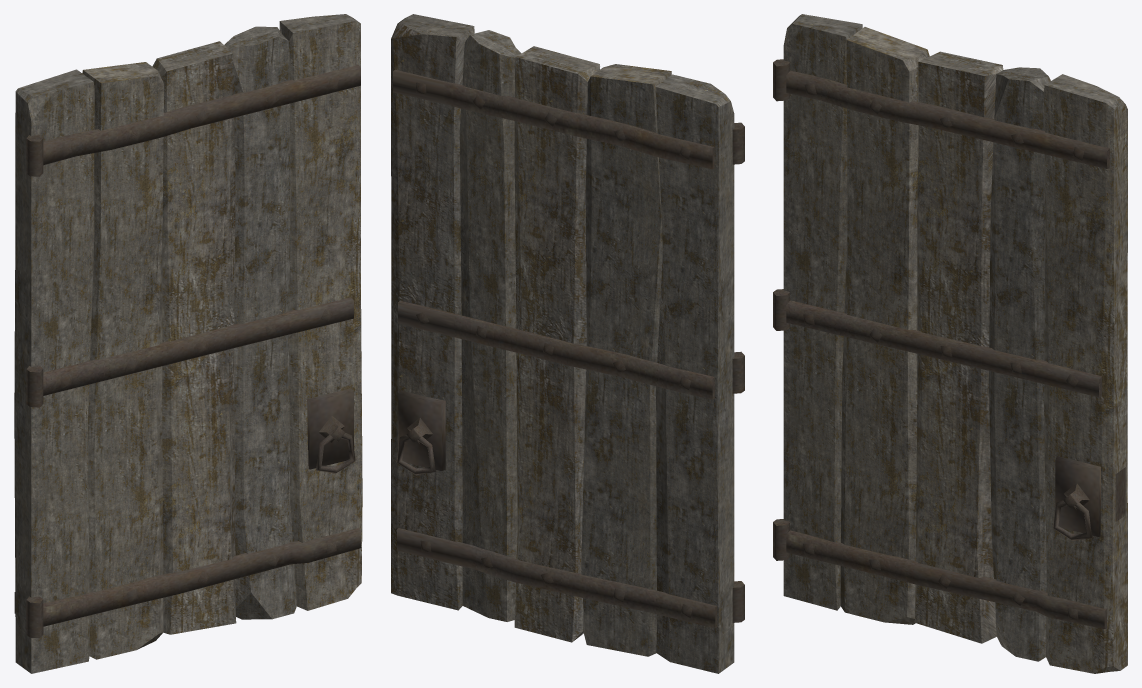
File: door_single.fbx
3 views of the same model, side by side, from view 1: azimuth 30°, elevation 25°; view 2: azimuth 150°, elevation 25°; view 3: azimuth 330°, elevation 25° (orthographic).
Parts seen in each view (by area): view 1: door_single; view 2: door_single; view 3: door_single.
Part boxes in pixels (x1,y1,x2,y2): door_single: [14, 14, 362, 673]; door_single: [391, 14, 744, 673]; door_single: [773, 14, 1127, 673].
Size of the model in its own units: 61.12 by 100 by 12.69.
